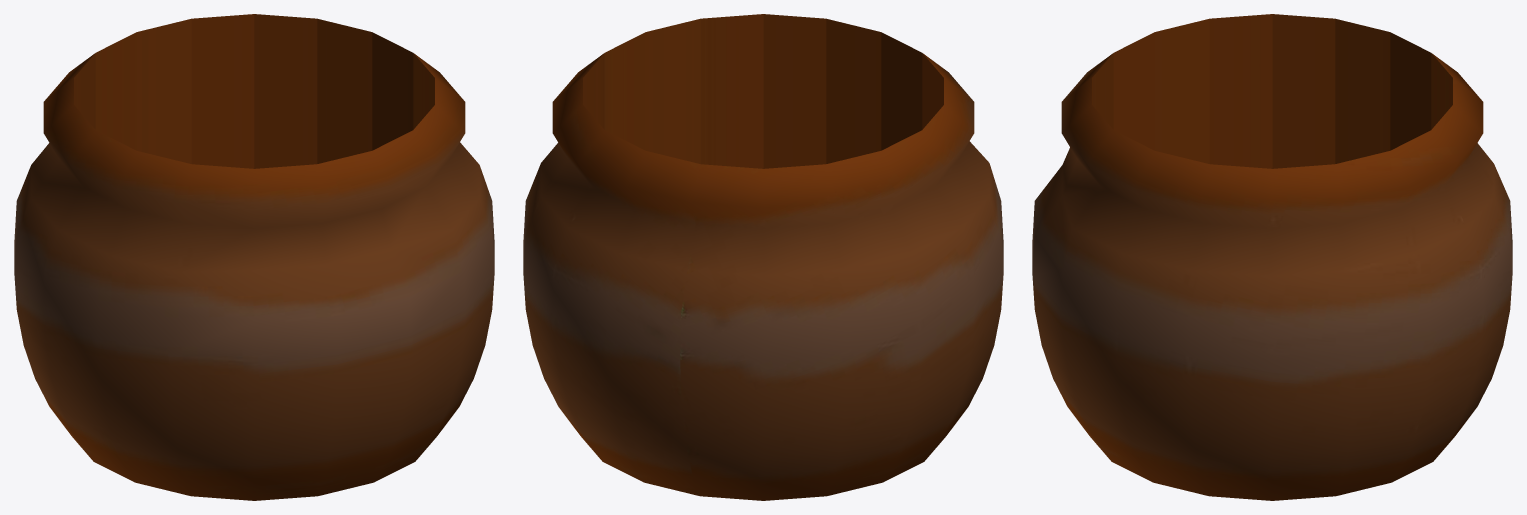
The model's file is obj_ldeutc_pot_11e0c6.glb.
3 views of the same model, side by side, from view 1: azimuth 30°, elevation 25°; view 2: azimuth 150°, elevation 25°; view 3: azimuth 270°, elevation 25° (orthographic).
Parts seen in each view (by area): view 1: obj_ldeutc_pot_11e0c6; view 2: obj_ldeutc_pot_11e0c6; view 3: obj_ldeutc_pot_11e0c6.
Boxes of the visible parts, x1,y1,x2,y2 form: obj_ldeutc_pot_11e0c6: (14,14,494,500); obj_ldeutc_pot_11e0c6: (523,14,1003,500); obj_ldeutc_pot_11e0c6: (1032,14,1512,500).
Bounding box in the file's own units: 0.3 × 0.2252 × 0.2954.
1 material, 1 textured.
